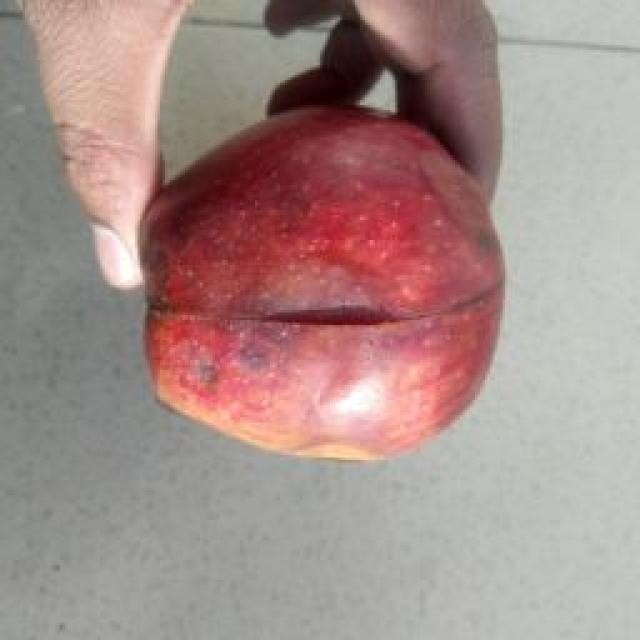Bad_Apple: (142, 108, 500, 459)
